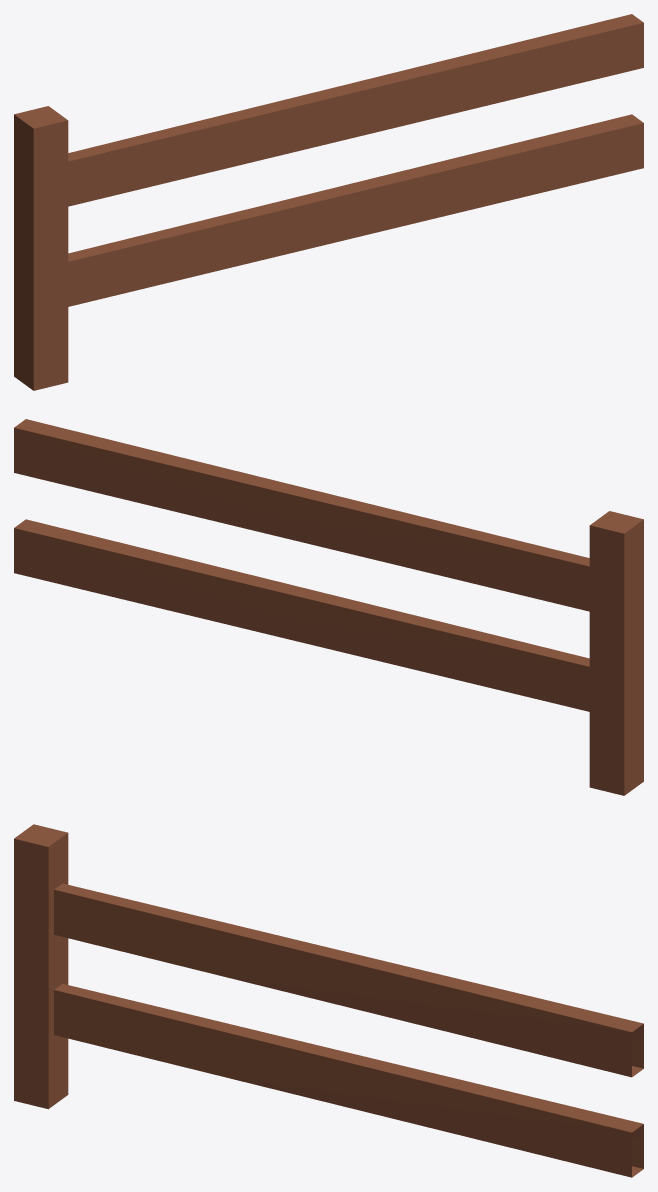
File: fence.simple.close.R.glb
3 renders of one model, top to bottom at view 1: azimuth 30°, elevation 25°; view 2: azimuth 150°, elevation 25°; view 3: azimuth 330°, elevation 25°, orthographic.
Parts seen in each view (by area): view 1: fence.simple.close.R; view 2: fence.simple.close.R; view 3: fence.simple.close.R.
Boxes of the visible parts, x1=… form: fence.simple.close.R: x1=14, y1=14, x2=643, y2=390; fence.simple.close.R: x1=14, y1=419, x2=643, y2=795; fence.simple.close.R: x1=14, y1=824, x2=643, y2=1177.
Bounding box in the file's own units: 2.98 × 1.21 × 0.1655.
